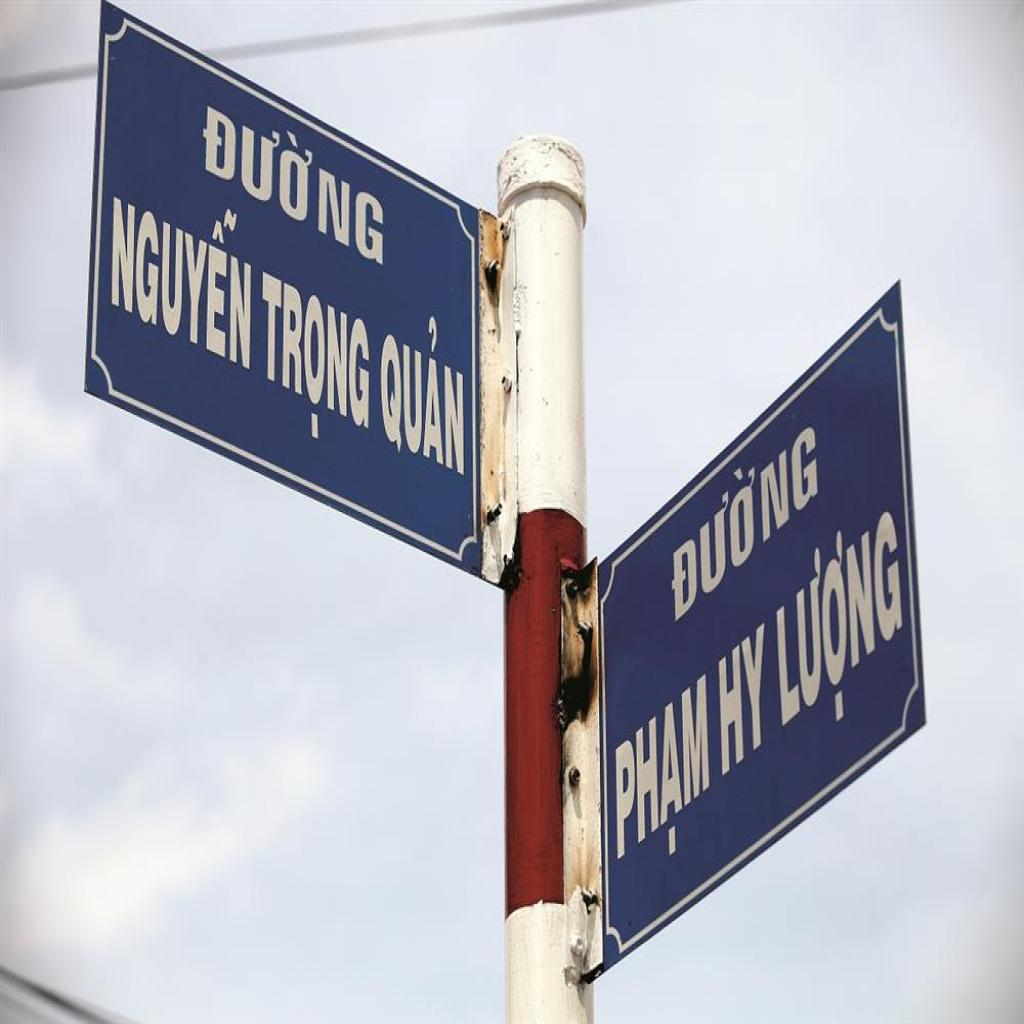text: (666, 390, 821, 628), (198, 80, 388, 272), (108, 165, 254, 378), (609, 661, 715, 892), (261, 252, 375, 464), (377, 295, 473, 492), (713, 609, 771, 790)
